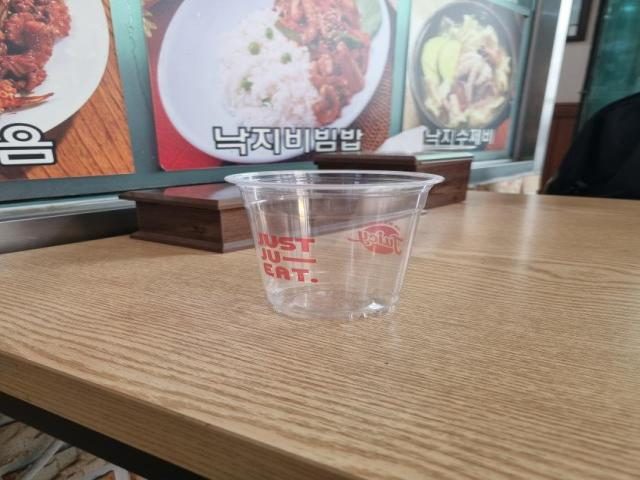cup: (218, 165, 444, 326)
